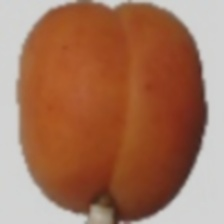apricot: (26, 50, 187, 191)
